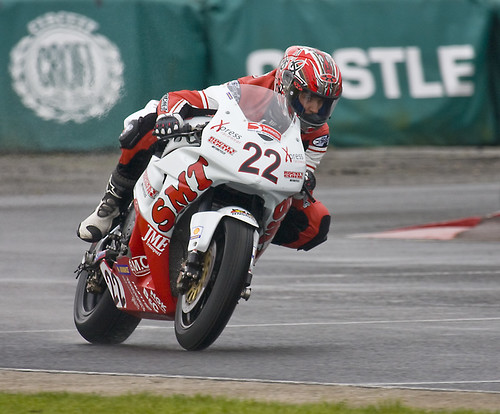helmet: (276, 38, 345, 132)
